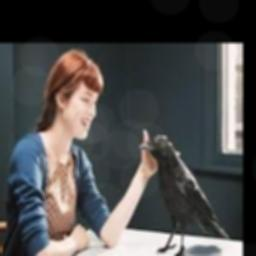Crow: (137, 137, 229, 256)
